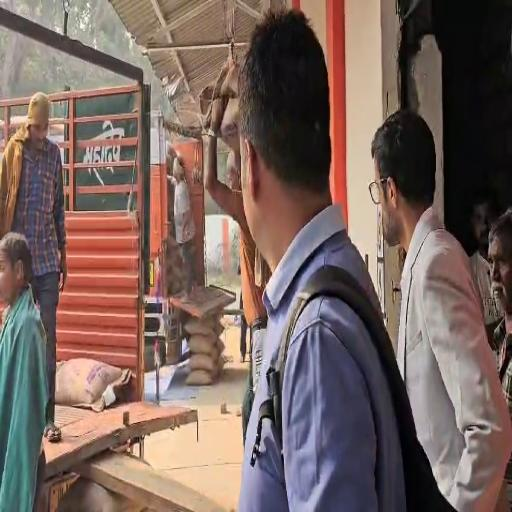bag: (201, 53, 240, 149)
